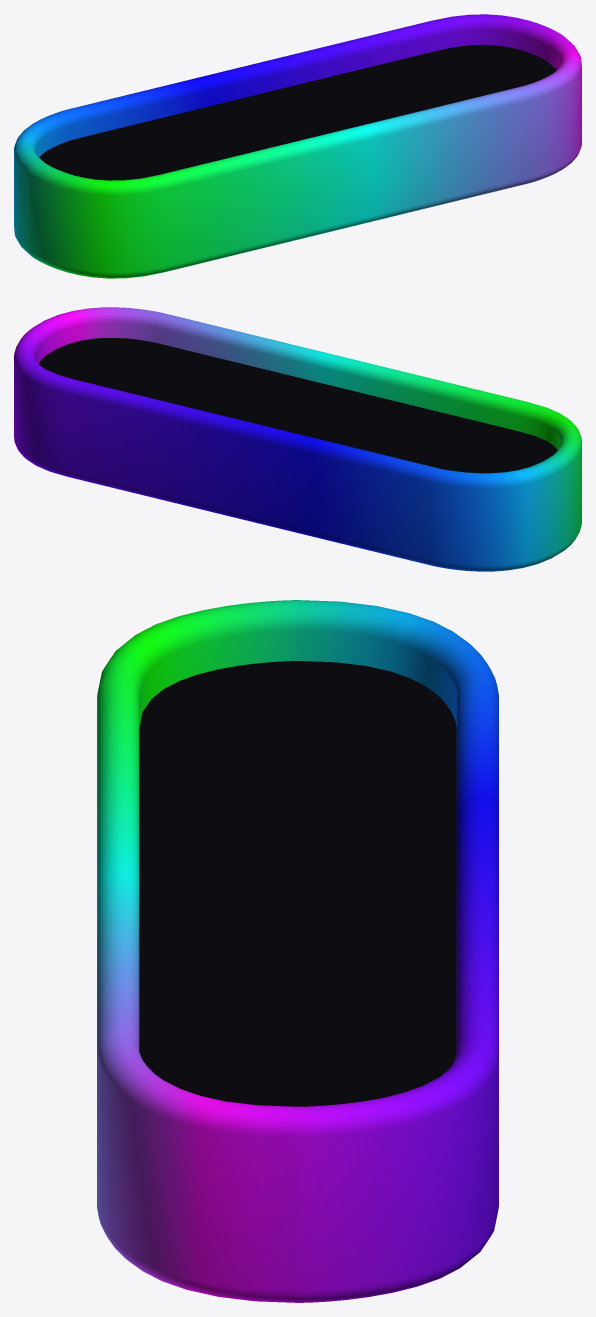
File: Paddle-23.dae
3 renders of one model, top to bottom at view 1: azimuth 30°, elevation 25°; view 2: azimuth 150°, elevation 25°; view 3: azimuth 270°, elevation 25°, orthographic. The views are drawn at different scales.
Visible parts, largest first — view 1: Paddle; view 2: Paddle; view 3: Paddle.
Boxes of the visible parts, bbox=[...] form: Paddle: bbox=[14, 14, 581, 278]; Paddle: bbox=[14, 307, 581, 571]; Paddle: bbox=[97, 600, 498, 1302].
Bounding box in the file's own units: 0.2922 × 0.05 × 0.0946.
2 materials, 1 textured.
